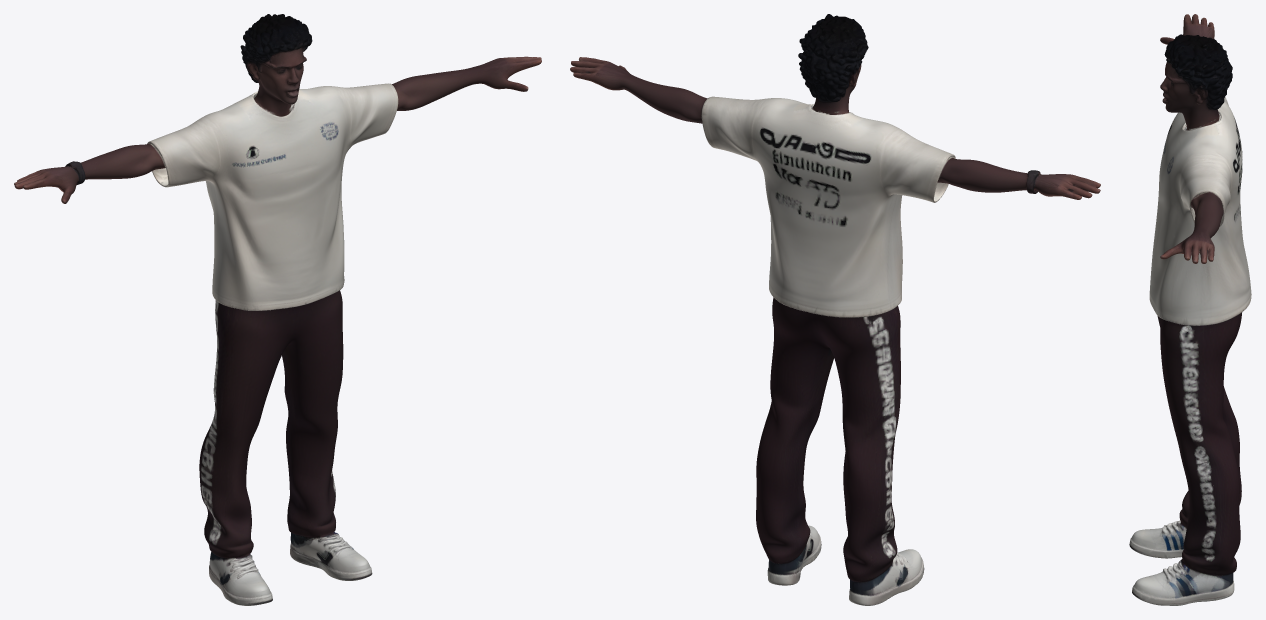
File: Meshy_AI_Amir_Smith_0319064218_texture.glb
3 views of the same model, side by side, from view 1: azimuth 30°, elevation 25°; view 2: azimuth 150°, elevation 25°; view 3: azimuth 270°, elevation 25° (orthographic). The views are drawn at different scales.
Size of the model in its own units: 1.87 by 1.9 by 0.3905.
1 material, 1 textured.
